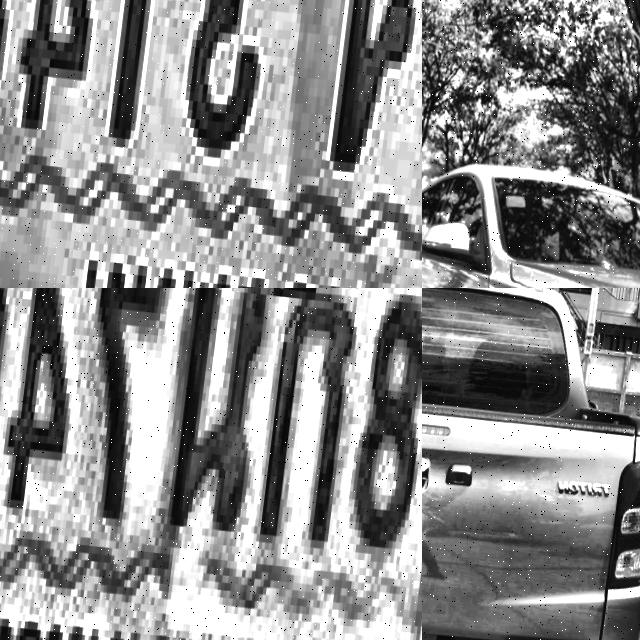license-plate: (0, 288, 422, 640), (0, 0, 422, 288)
